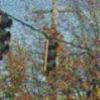traffic lights: (0, 11, 13, 58), (42, 38, 58, 74)
